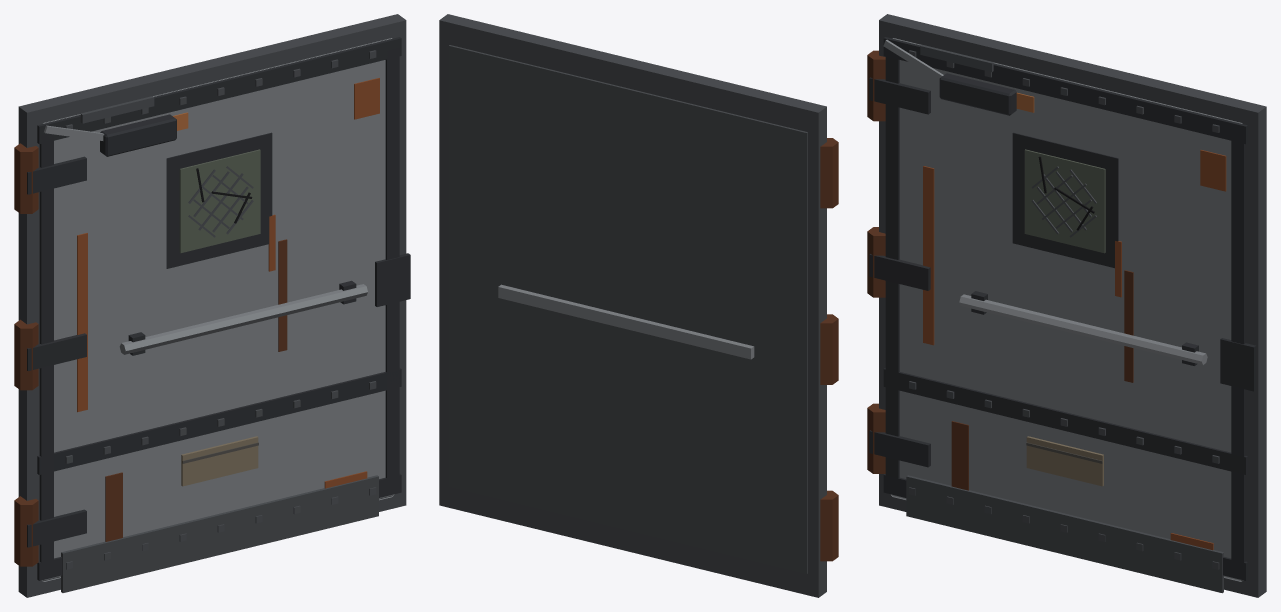
File: bld_door_apt_entrance.fbx
3 views of the same model, side by side, from view 1: azimuth 30°, elevation 25°; view 2: azimuth 150°, elevation 25°; view 3: azimuth 330°, elevation 25° (orthographic).
Parts seen in each view (by area): view 1: bld_door_apt_entrance; view 2: bld_door_apt_entrance; view 3: bld_door_apt_entrance.
Boxes of the visible parts, x1,y1,x2,y2 form: bld_door_apt_entrance: (14, 14, 410, 597); bld_door_apt_entrance: (439, 14, 838, 597); bld_door_apt_entrance: (867, 14, 1266, 597).
Size of the model in its own units: 1.84 by 2.2 by 0.185.
